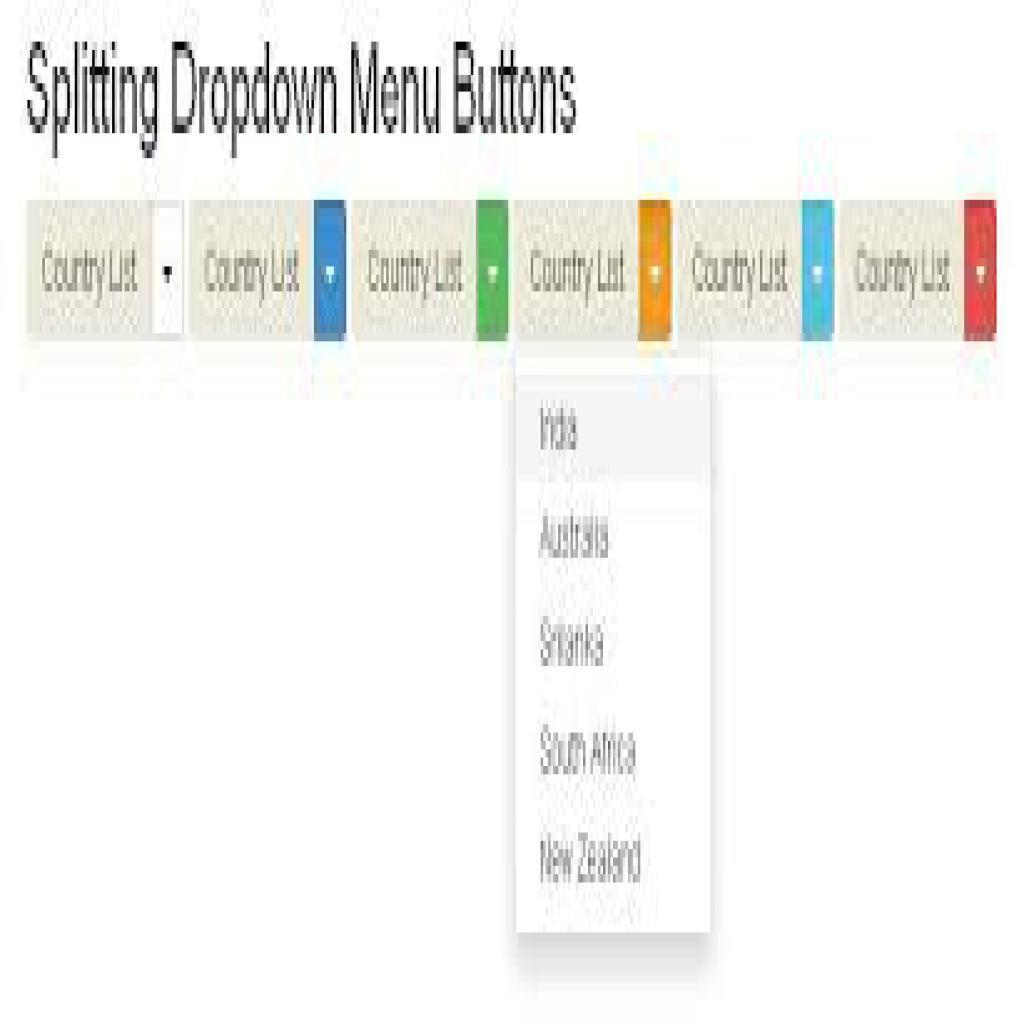dropdown: (24, 202, 187, 343), (836, 200, 997, 342), (680, 200, 835, 345), (358, 202, 512, 343), (197, 201, 345, 343), (522, 205, 663, 344)
